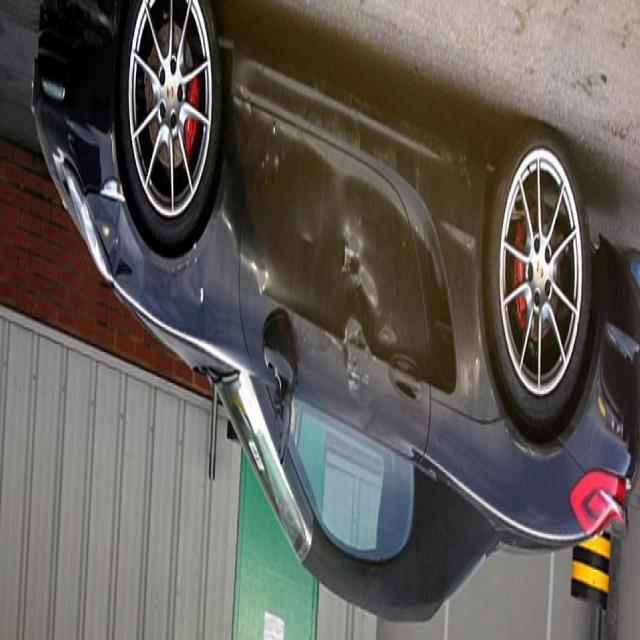dent: (319, 212, 388, 406)
